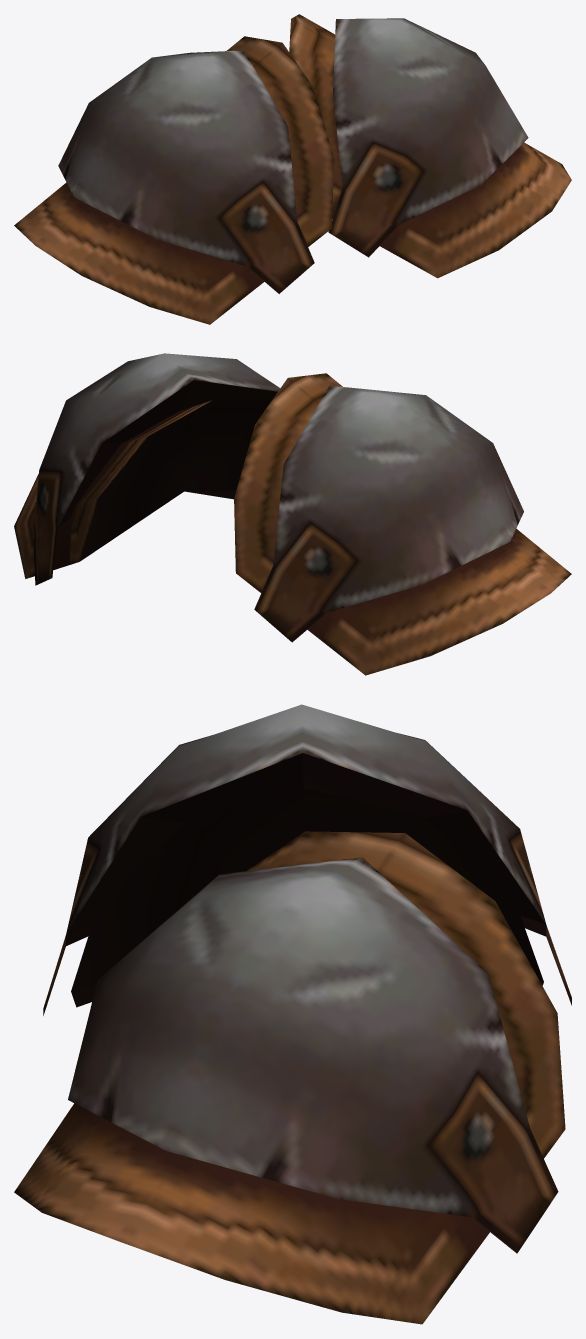
File: drop_leather_shoulders_be1e3fc4.glb
3 views of the same model, one above another, from view 1: azimuth 30°, elevation 25°; view 2: azimuth 150°, elevation 25°; view 3: azimuth 270°, elevation 25° (orthographic). The views are drawn at different scales.
Bounding box in the file's own units: 0.8717 × 0.3621 × 0.4966.
1 material, 1 textured.
